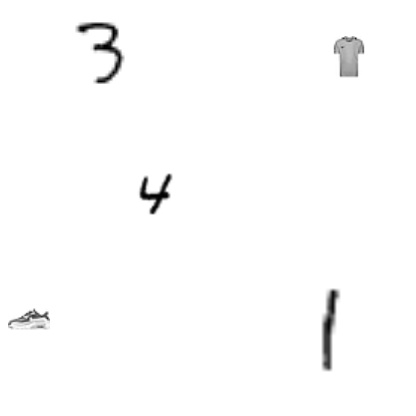0: (81, 303, 137, 359)
8: (392, 156, 406, 170)
Coat: (200, 232, 284, 316), (21, 267, 35, 281)
Sandal: (11, 44, 123, 156), (241, 63, 325, 147)
Trouser: (112, 6, 154, 48)
